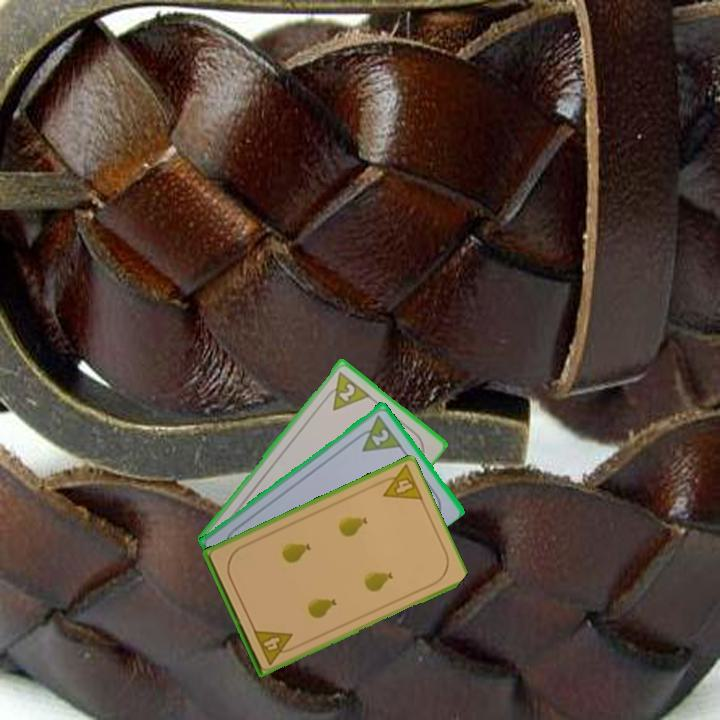2p: (319, 368, 372, 413), (368, 425, 392, 448)
4p: (372, 461, 425, 503), (250, 625, 299, 667)
